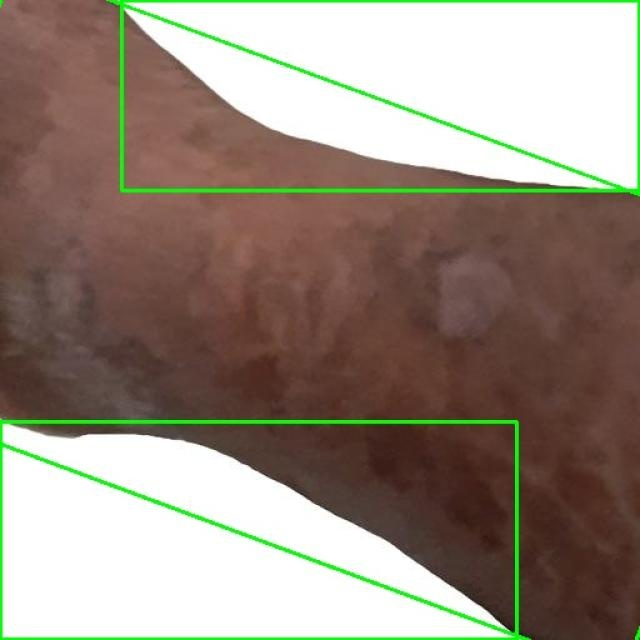Eczema: (0, 0, 640, 640), (0, 421, 516, 639), (121, 0, 639, 190)
